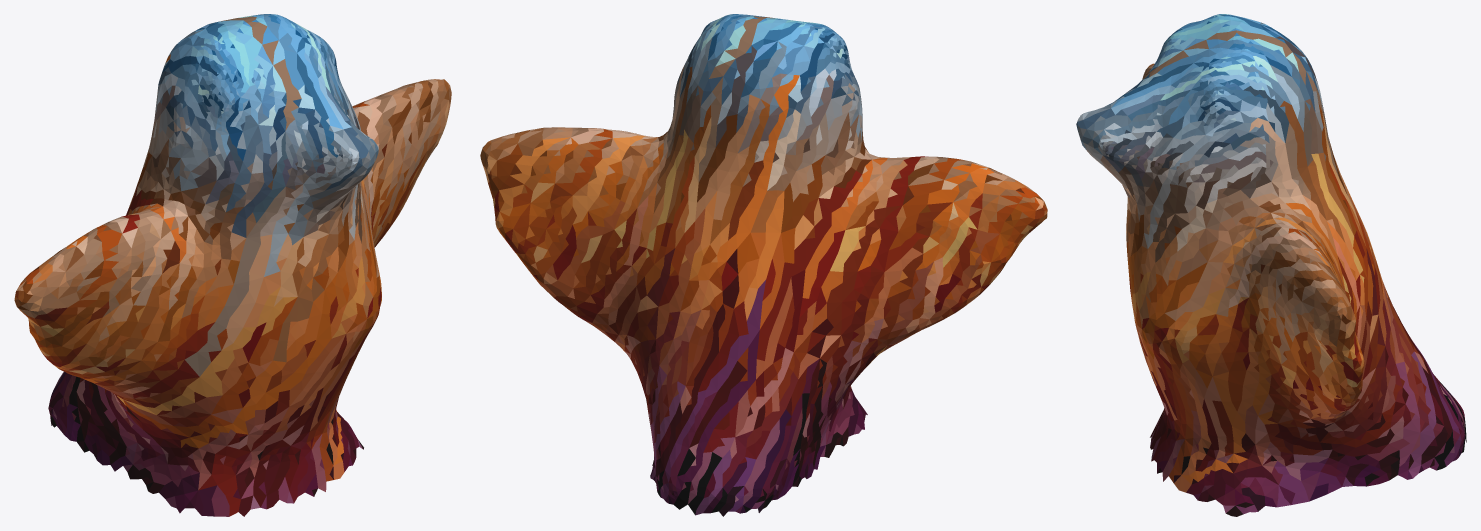
The model's file is bird-without-base.glb.
3 renders of one model, left to right at view 1: azimuth 30°, elevation 25°; view 2: azimuth 150°, elevation 25°; view 3: azimuth 270°, elevation 25°, orthographic. The views are drawn at different scales.
Visible parts, largest first — view 1: bird.001; view 2: bird.001; view 3: bird.001.
Part boxes in pixels (left/top/right/bottom): bird.001: left=14, top=14, right=451, bottom=516; bird.001: left=480, top=14, right=1047, bottom=516; bird.001: left=1076, top=14, right=1466, bottom=516.
Bounding box in the file's own units: 3.17 × 2.58 × 2.1.
